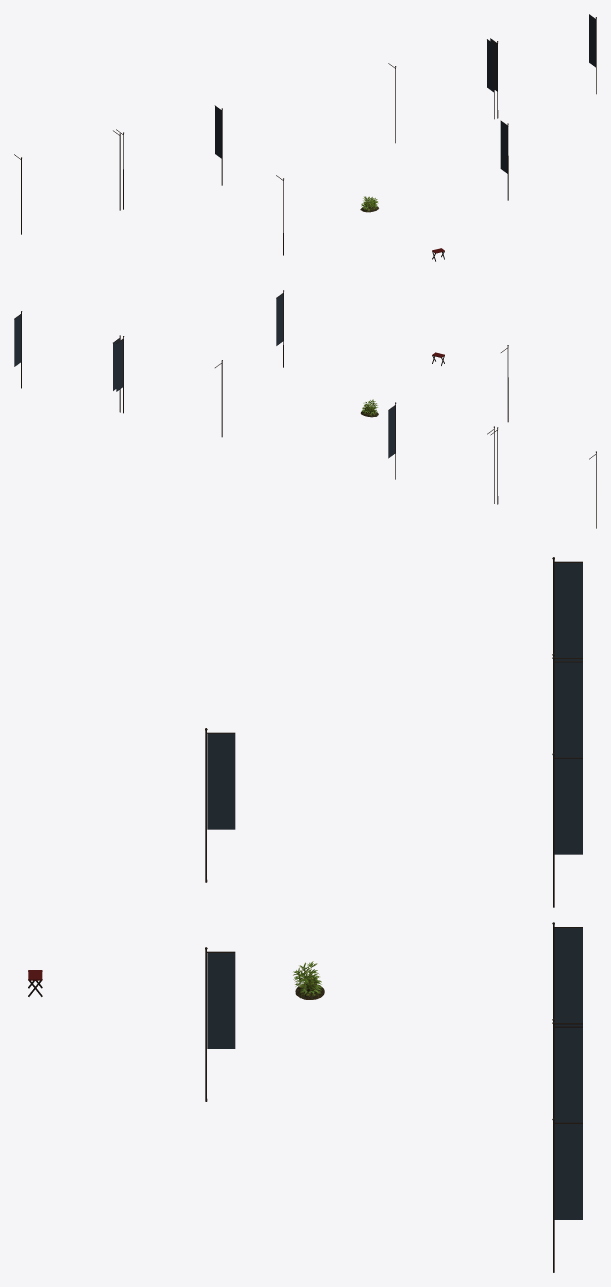
The model's file is army.glb.
3 views of the same model, one above another, from view 1: azimuth 30°, elevation 25°; view 2: azimuth 150°, elevation 25°; view 3: azimuth 270°, elevation 25° (orthographic). The views are drawn at different scales.
Parts seen in each view (by area): view 1: m47, m23, m31, m39; view 2: m39, m31, m23, m47; view 3: m23, m43, m39, m47, m19, m35, m11, m27.
Boxes of the visible parts, x1,y1,x2,y2 form: m47: [500, 121, 507, 173]; m23: [215, 106, 221, 158]; m31: [487, 40, 493, 92]; m39: [589, 15, 595, 67]; m39: [14, 314, 21, 366]; m31: [116, 339, 123, 391]; m23: [388, 406, 395, 458]; m47: [276, 294, 283, 345]; m23: [554, 758, 582, 854]; m43: [207, 733, 235, 829]; m39: [554, 1124, 582, 1219]; m47: [207, 953, 235, 1048]; m19: [554, 662, 582, 757]; m35: [554, 1027, 582, 1122]; m11: [554, 563, 582, 657]; m27: [554, 928, 582, 1022].
Size of what is drawn, in the model's own units: 33.87 by 4.36 by 14.13.
Materials: 15 (2 with a texture image).
